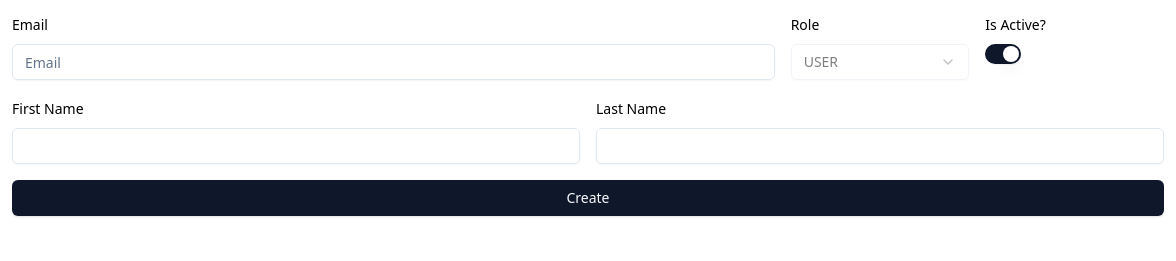
Test: UserForm › fail submit - invalid email
Type "asd" into the field labelled "Email". click: (393, 62)
box: top-left (12, 44), bottom-right (775, 80)
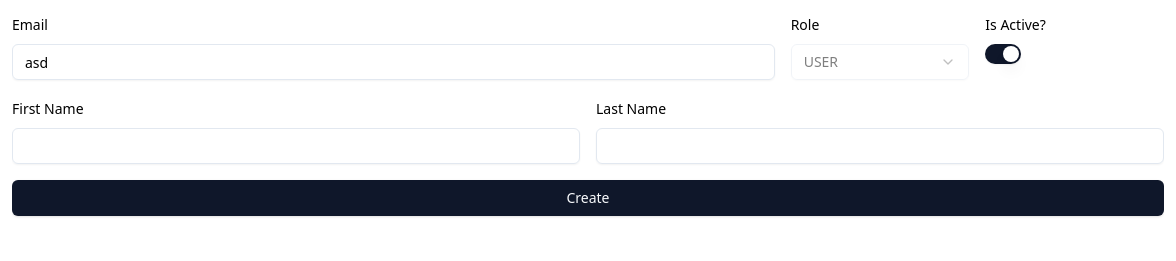
Submit the form
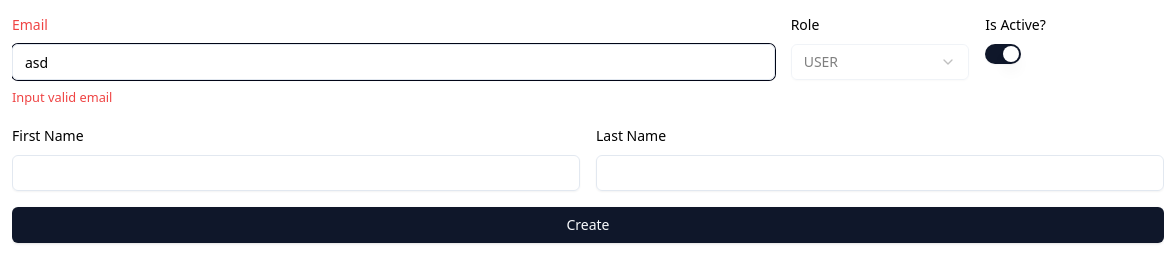
Now the text "Input valid email" is shown, box top-left (12, 88), bottom-right (112, 106)
